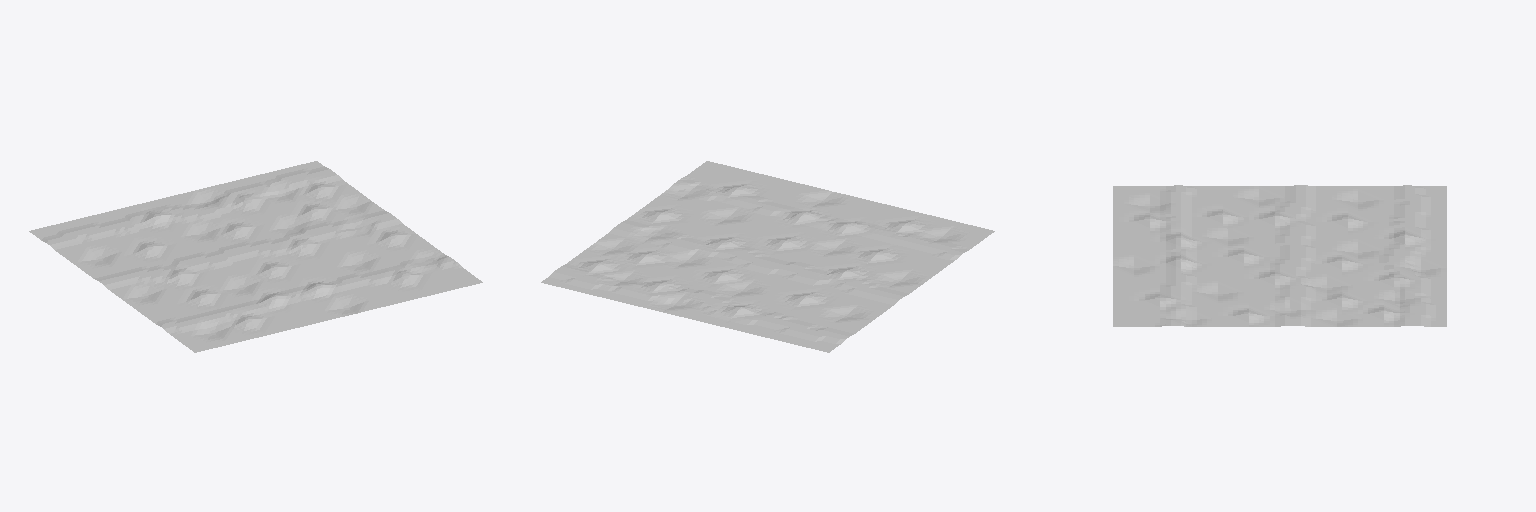
Rendered from lake4.obj.
The picture shows the model from 3 angles: view 1: azimuth 30°, elevation 25°; view 2: azimuth 150°, elevation 25°; view 3: azimuth 270°, elevation 25°; orthographic projection.
Parts seen in each view (by area): view 1: lake.004; view 2: lake.004; view 3: lake.004.
Part boxes in pixels (x1,y1,x2,y2): lake.004: (29, 161, 482, 352); lake.004: (541, 161, 994, 352); lake.004: (1113, 185, 1446, 326).
Bounding box in the file's own units: 332 × 6.92 × 332.